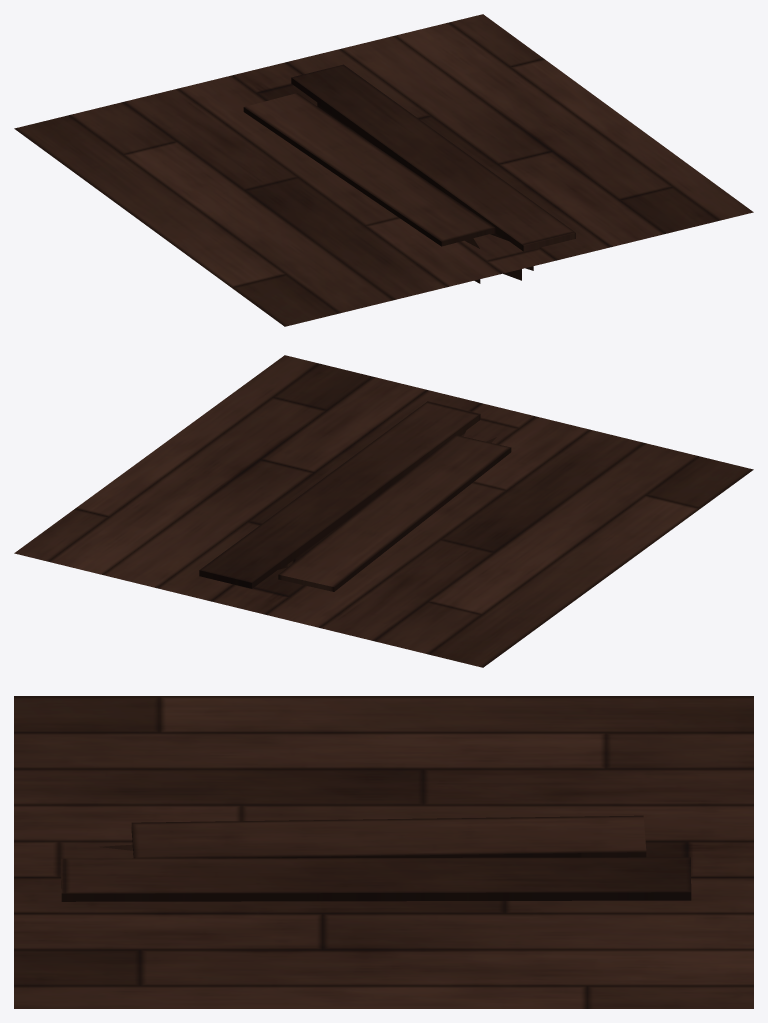
File: SpecialFloorMatthew.fbx
The picture shows the model from 3 angles, top to bottom: view 1: azimuth 30°, elevation 25°; view 2: azimuth 150°, elevation 25°; view 3: azimuth 270°, elevation 25°; orthographic projection. The views are drawn at different scales.
Parts seen in each view (by area): view 1: Floor.010, Floor.011, Floor.013; view 2: Floor.010, Floor.011, Floor.013; view 3: Floor.010, Floor.011, Floor.013.
Boxes of the visible parts, x1,y1,x2,y2 form: Floor.010: [14, 14, 753, 326]; Floor.011: [291, 64, 575, 251]; Floor.013: [243, 93, 495, 246]; Floor.010: [14, 355, 753, 667]; Floor.011: [199, 401, 480, 588]; Floor.013: [278, 435, 511, 591]; Floor.010: [14, 696, 753, 1008]; Floor.011: [61, 857, 691, 901]; Floor.013: [131, 815, 646, 858].
Size of the model in its own units: 200 by 16.63 by 200.
